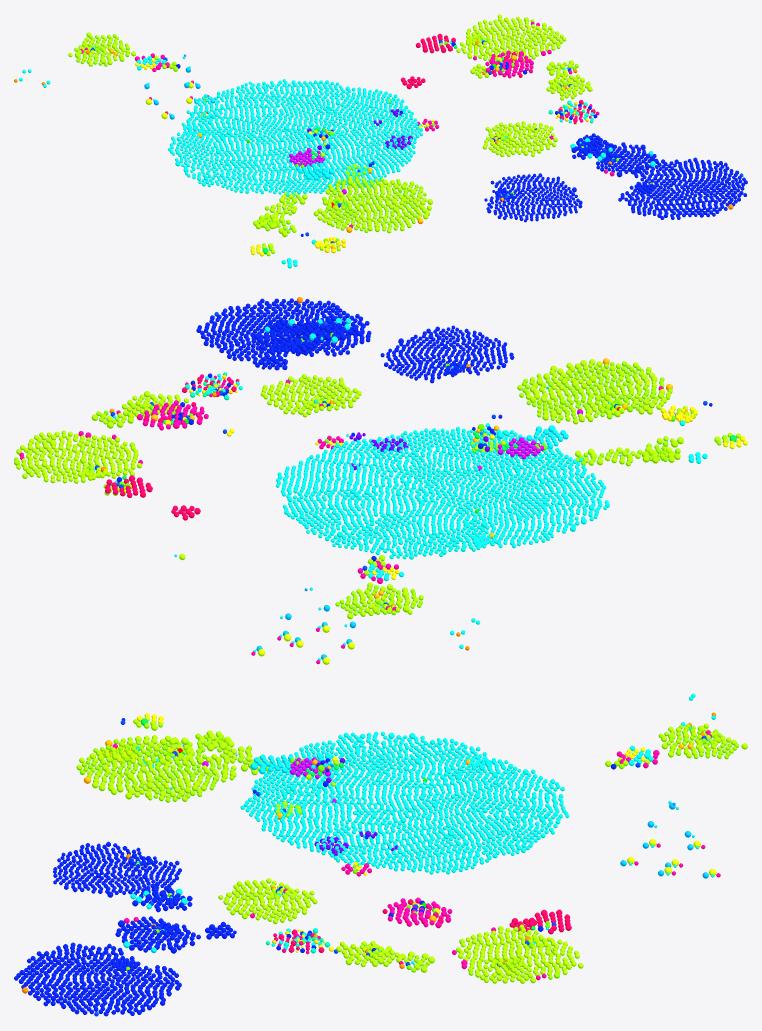
The model's file is task-a0c6f7c97-layout.gltf.
The picture shows the model from 3 angles, top to bottom: view 1: azimuth 30°, elevation 25°; view 2: azimuth 150°, elevation 25°; view 3: azimuth 270°, elevation 25°; orthographic projection. The views are drawn at different scales.
Parts seen in each view (by area): view 1: normal_no_ext_files, normal_md_files, normal_c_files, normal_h_files, normal_pl_files, normal_py_files, normal_m4_files; view 2: normal_no_ext_files, normal_c_files, normal_md_files, normal_h_files, normal_pl_files, normal_py_files, normal_cmake_files, normal_m4_files; view 3: normal_no_ext_files, normal_md_files, normal_c_files, normal_h_files, normal_pl_files, normal_py_files, normal_m4_files.
Boxes of the visible parts, x1,y1,x2,y2 form: normal_no_ext_files: (19, 56, 655, 268); normal_md_files: (176, 42, 747, 236); normal_c_files: (68, 14, 592, 256); normal_h_files: (74, 17, 578, 251); normal_pl_files: (80, 21, 614, 228); normal_py_files: (400, 33, 522, 89); normal_m4_files: (295, 133, 653, 180); normal_no_ext_files: (217, 318, 707, 648); normal_c_files: (16, 359, 740, 619); normal_md_files: (116, 298, 712, 561); normal_h_files: (14, 361, 727, 615); normal_pl_files: (19, 339, 663, 610); normal_py_files: (105, 402, 200, 520); normal_cmake_files: (477, 409, 582, 470); normal_m4_files: (264, 326, 568, 448); normal_no_ext_files: (123, 693, 715, 948); normal_md_files: (14, 718, 616, 1016); normal_c_files: (76, 719, 747, 983); normal_h_files: (79, 722, 739, 979); normal_pl_files: (112, 730, 711, 980); normal_py_files: (382, 906, 571, 934); normal_m4_files: (150, 753, 331, 953).
Bounding box in the file's own units: 286 × 47.38 × 321.
